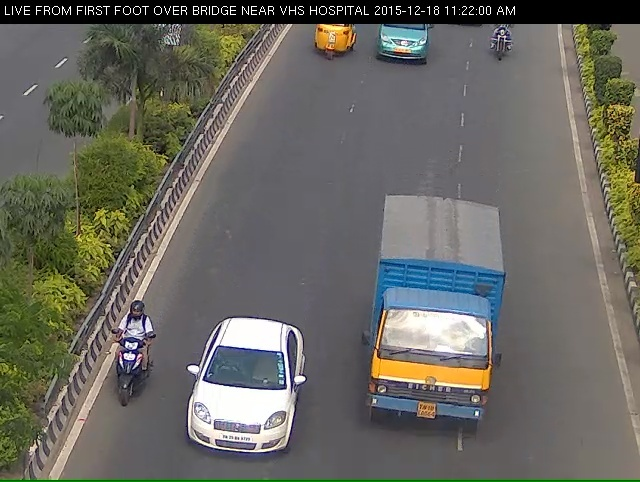Car: (355, 204, 516, 457), (174, 337, 289, 477), (371, 24, 433, 73), (307, 19, 351, 66)
Person: (102, 315, 146, 431), (485, 23, 523, 65)
